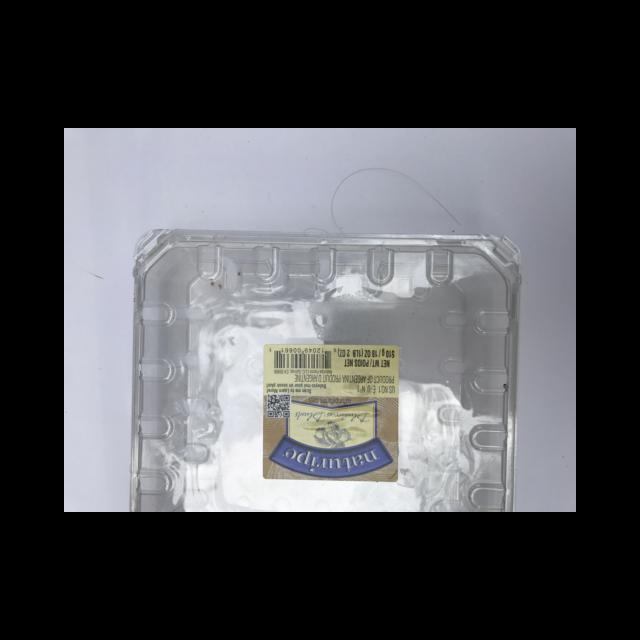plastic: (126, 228, 521, 511)
